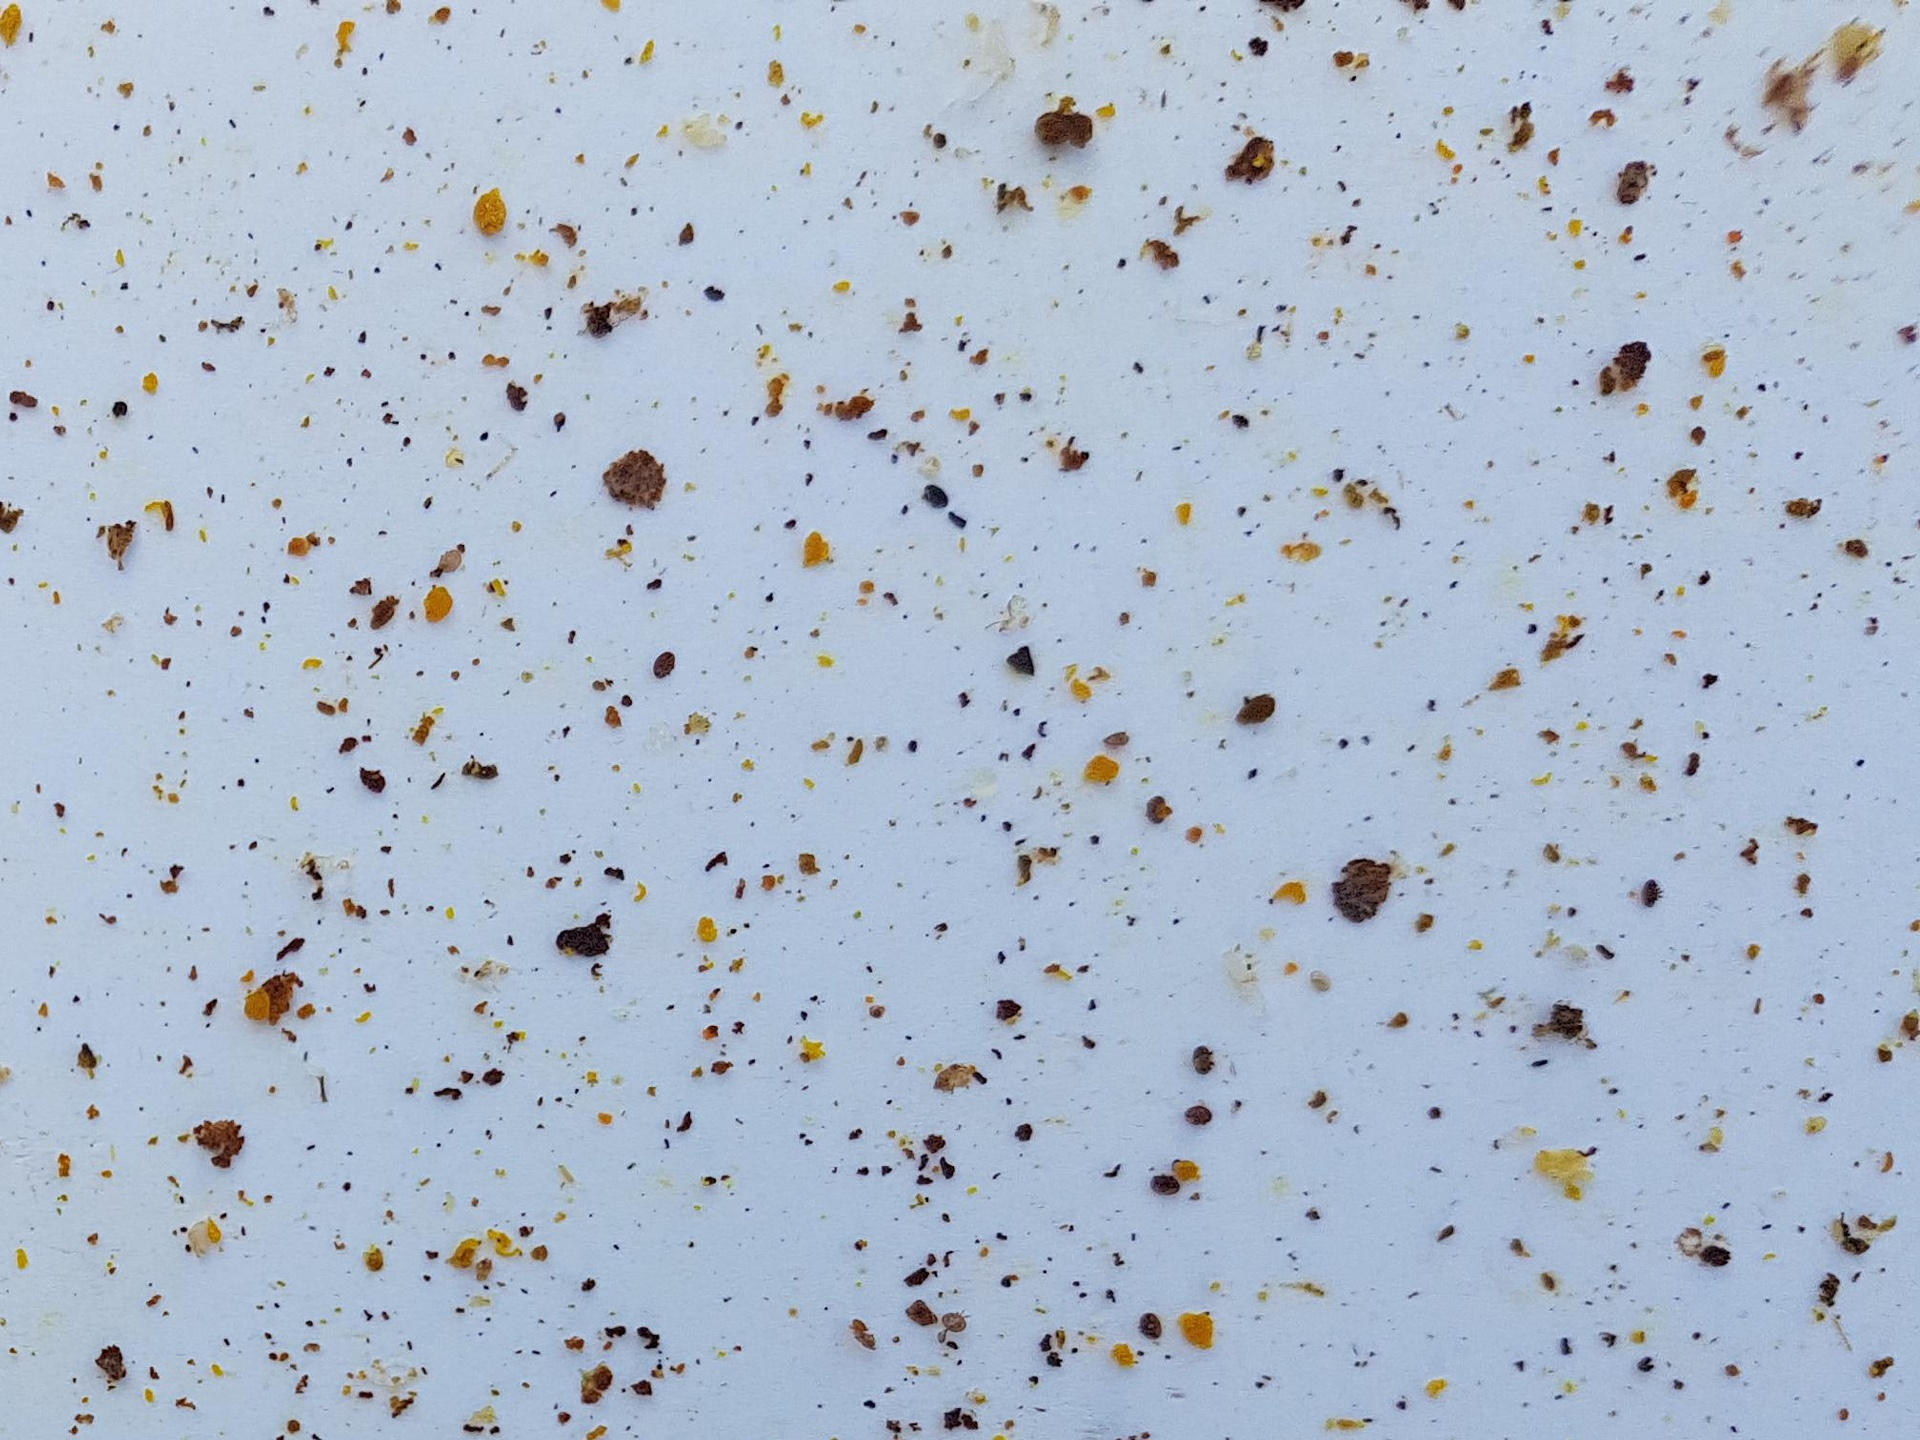Varroa: (937, 1307, 974, 1340), (1184, 1039, 1217, 1072), (1152, 1166, 1185, 1199), (1132, 1310, 1164, 1342), (1181, 1097, 1211, 1128), (1637, 879, 1668, 909), (1143, 794, 1172, 824), (647, 649, 674, 679), (922, 487, 949, 514)
